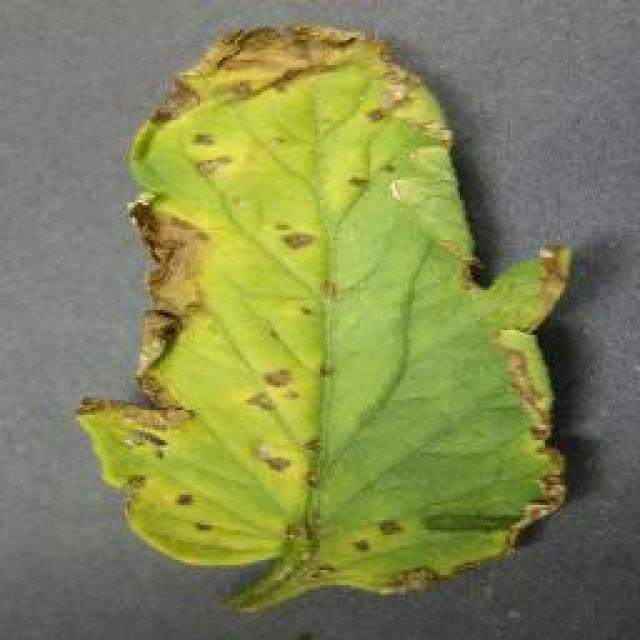Tomato___Bacterial_spot: (68, 24, 574, 622)
